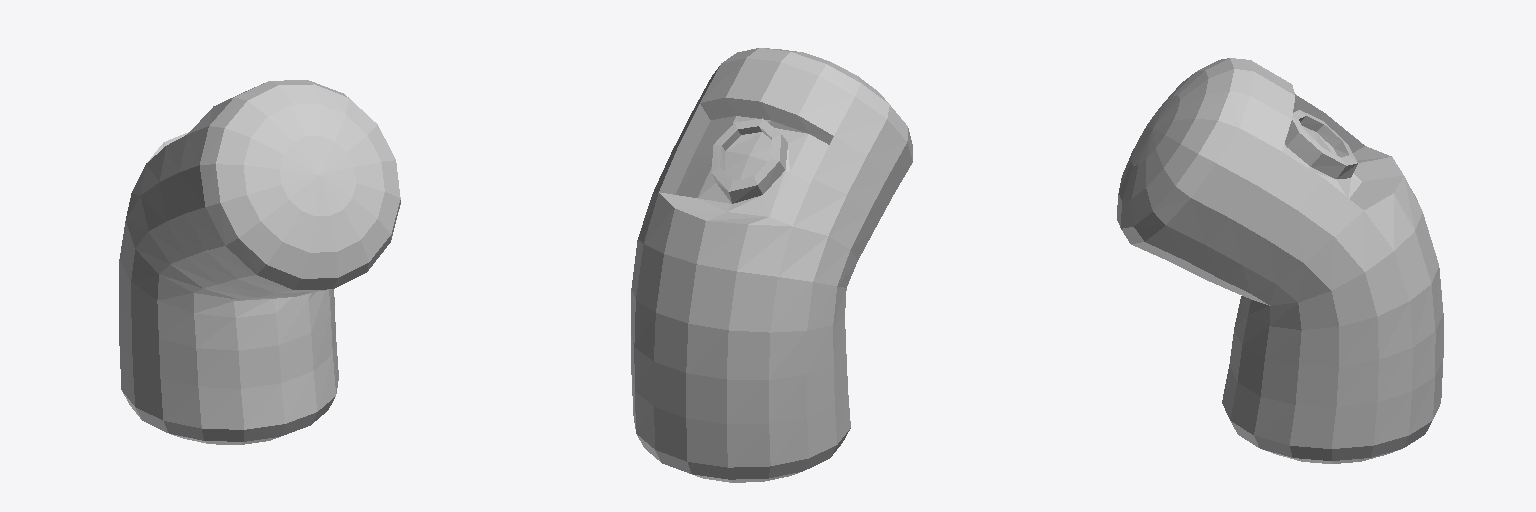
The model's file is punch1.obj.
The picture shows the model from 3 angles: view 1: azimuth 30°, elevation 25°; view 2: azimuth 150°, elevation 25°; view 3: azimuth 270°, elevation 25°; orthographic projection.
Parts seen in each view (by area): view 1: Sphere; view 2: Sphere; view 3: Sphere.
Part boxes in pixels (bbox=[...]): Sphere: bbox=[119, 80, 400, 444]; Sphere: bbox=[631, 48, 912, 482]; Sphere: bbox=[1117, 58, 1443, 463].
Size of the model in its own units: 1 by 1.88 by 1.49.